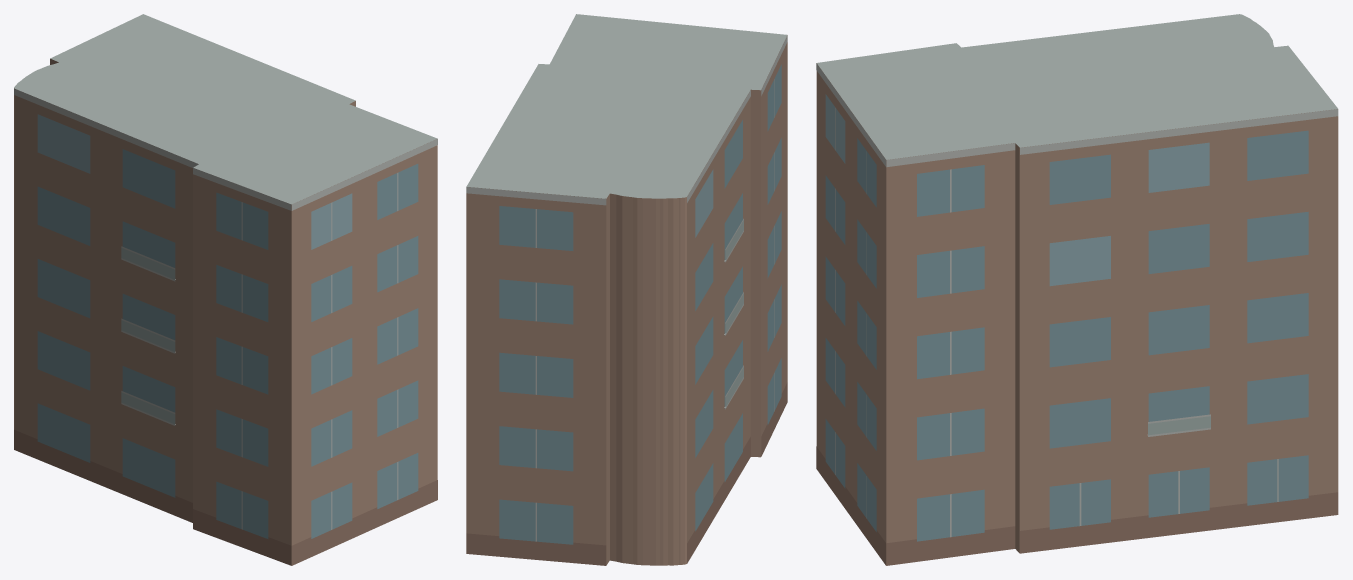
File: survey-upis-32634883.glb
3 renders of one model, left to right at view 1: azimuth 30°, elevation 25°; view 2: azimuth 150°, elevation 25°; view 3: azimuth 270°, elevation 25°, orthographic. The views are drawn at different scales.
Visible parts, largest first — view 1: survey-upis-32634883.tmp; view 2: survey-upis-32634883.tmp; view 3: survey-upis-32634883.tmp.
Boxes of the visible parts, x1,y1,x2,y2 form: survey-upis-32634883.tmp: (14,14,437,565); survey-upis-32634883.tmp: (466,14,787,565); survey-upis-32634883.tmp: (816,14,1338,565).
Size of the model in its own units: 10.5 by 13.6 by 15.86.
